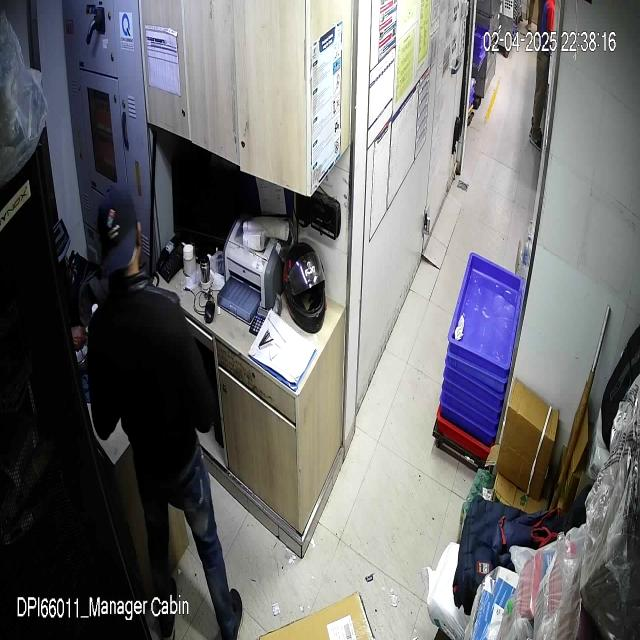helmet: (282, 241, 326, 334)
no_helmet: (97, 180, 143, 283)
